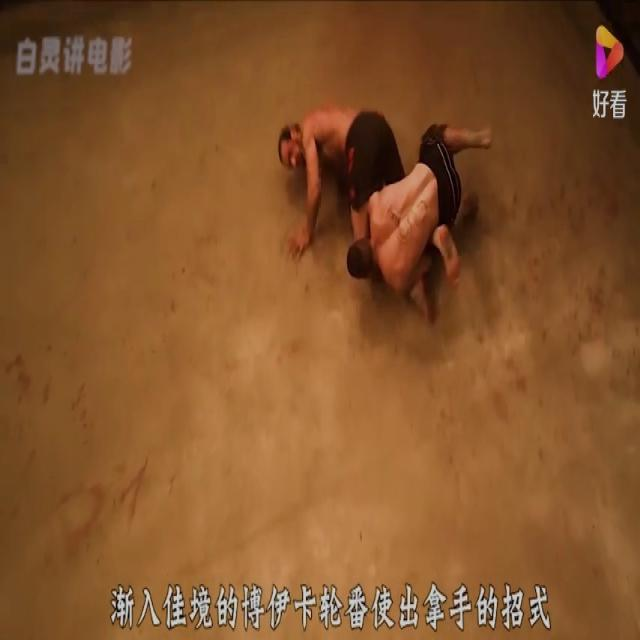fight: (269, 90, 493, 347)
